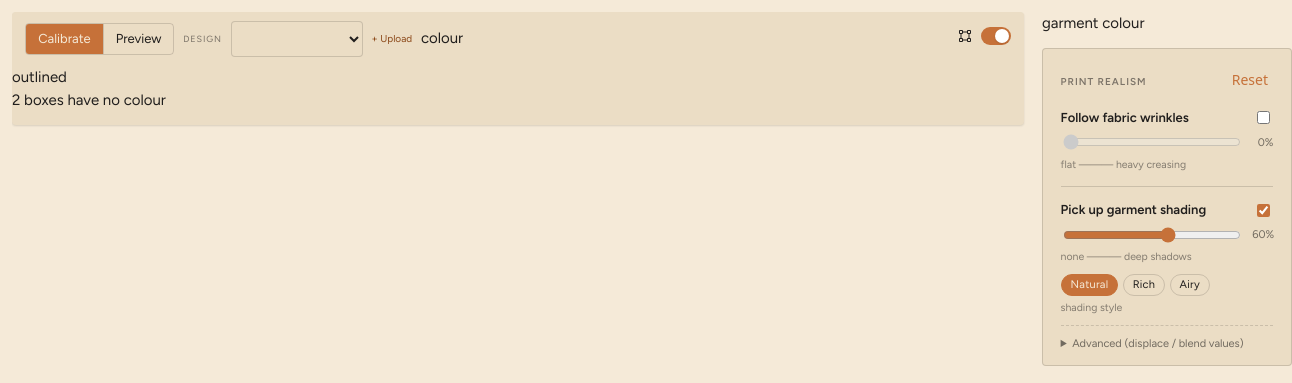
EditorShell › shows a kind's extra bar and inspector controls, the bar only while calibrating
expect the text "colour" is shown: met, box [421,27,463,50]
expect the text "garment colour" is shown: met, box [1042,14,1144,32]
What coordinates should you click on to do the following:
click the tab "Preview"
I would click on:
 (138, 39)
Its box is [103,24,173,54].
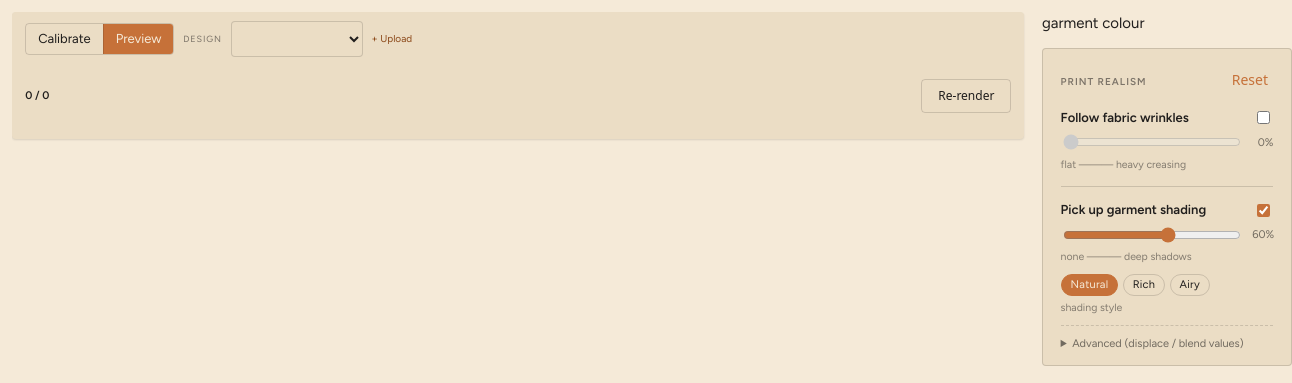
expect the text "garment colour" is shown: met, box [1042,14,1144,32]
expect the text with test id "bar-extra" is gone: met
expect the text with test id "footer" is gone: met
